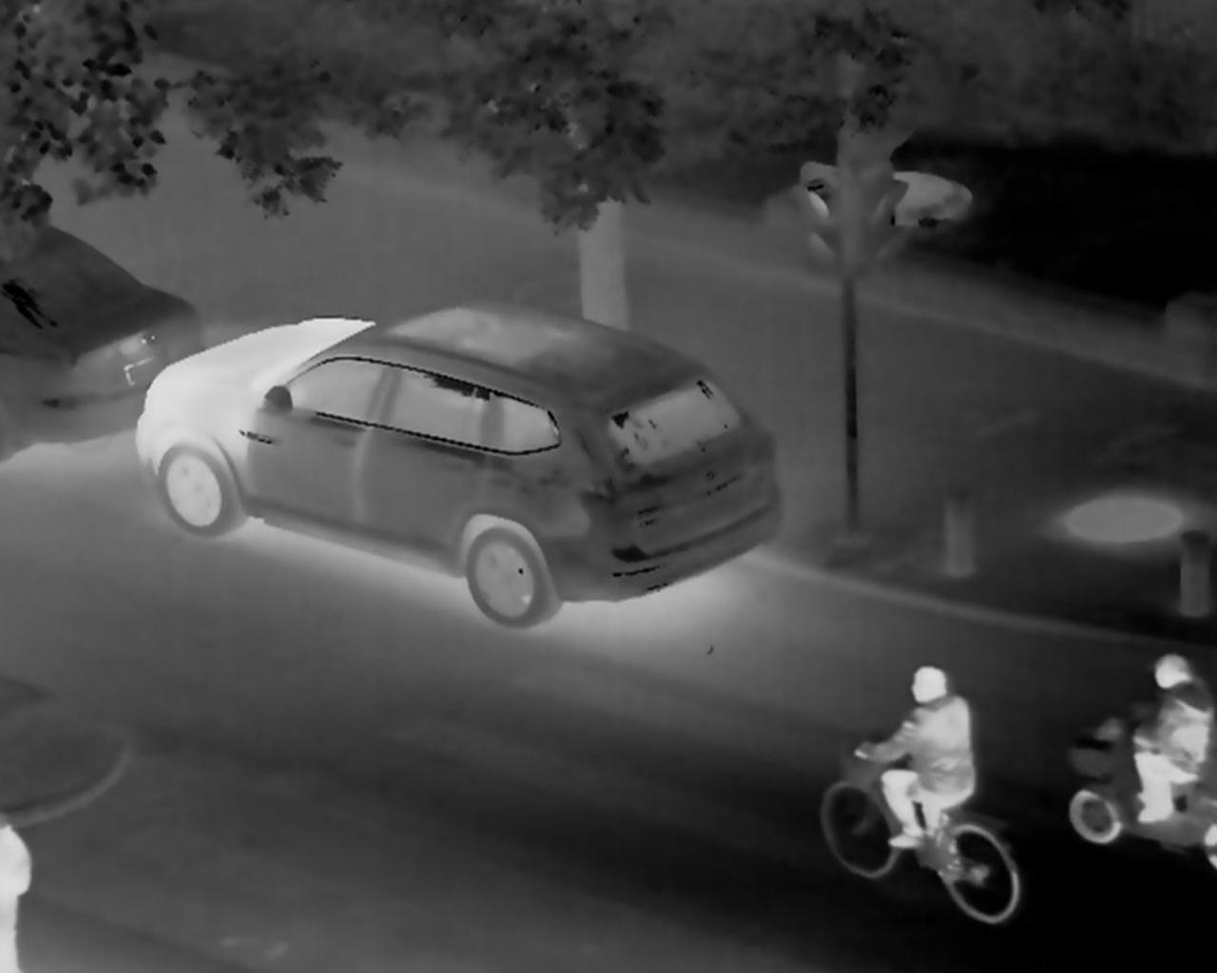person: (846, 650, 977, 887), (1126, 648, 1216, 830)
